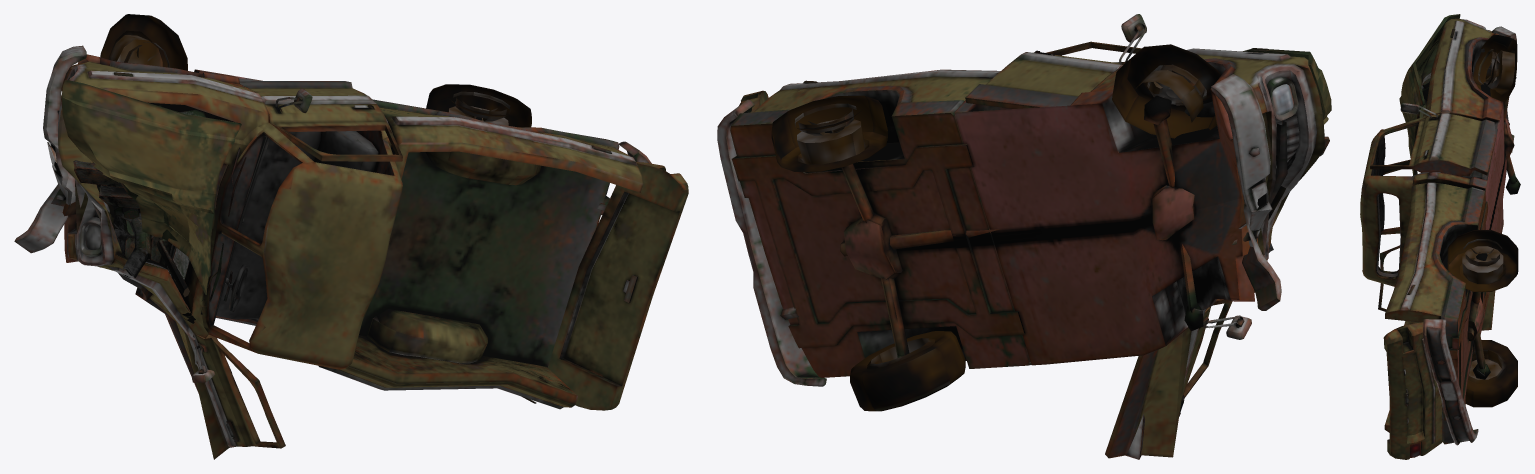
File: just_truck.obj
3 views of the same model, side by side, from view 1: azimuth 30°, elevation 25°; view 2: azimuth 150°, elevation 25°; view 3: azimuth 270°, elevation 25° (orthographic). The views are drawn at different scales.
Parts seen in each view (by area): view 1: Object_4, Object_8, Object_12, Object_22, Object_20, Object_10, Object_16, Object_30, Object_32, Object_26; view 2: Object_4, Object_20, Object_32, Object_22, Object_30, Object_16, Object_28, Object_18, Object_12; view 3: Object_4, Object_8, Object_22, Object_32, Object_18, Object_28, Object_30, Object_12, Object_20, Object_16.
Boxes of the visible parts, x1,y1,x2,y2 form: Object_4: [57, 54, 643, 409]; Object_8: [547, 162, 688, 410]; Object_12: [61, 80, 241, 294]; Object_22: [239, 81, 402, 161]; Object_20: [165, 314, 285, 459]; Object_10: [73, 102, 205, 296]; Object_16: [14, 45, 86, 253]; Object_30: [100, 14, 187, 70]; Object_32: [426, 84, 531, 127]; Object_26: [182, 135, 269, 324]; Object_4: [730, 48, 1324, 377]; Object_20: [1105, 299, 1251, 459]; Object_32: [771, 95, 887, 171]; Object_22: [965, 14, 1146, 108]; Object_30: [1112, 44, 1220, 138]; Object_16: [1211, 74, 1281, 310]; Object_28: [850, 331, 965, 411]; Object_18: [717, 99, 826, 386]; Object_12: [1242, 49, 1331, 124]; Object_4: [1360, 18, 1520, 444]; Object_8: [1383, 322, 1442, 459]; Object_22: [1370, 102, 1495, 176]; Object_32: [1447, 230, 1518, 291]; Object_18: [1423, 319, 1478, 445]; Object_28: [1465, 340, 1517, 407]; Object_30: [1473, 34, 1517, 101]; Object_12: [1399, 14, 1460, 175]; Object_20: [1378, 245, 1495, 330]; Object_16: [1492, 26, 1516, 152].
Size of the model in its own units: 6.16 by 4.38 by 2.18.
Materials: 2 (2 with a texture image).
